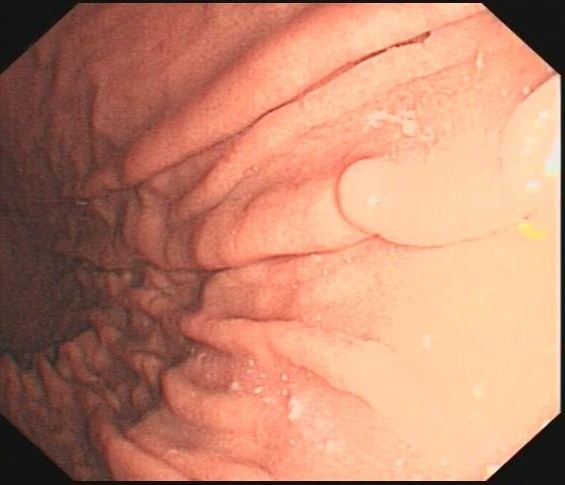Polyp: (336, 143, 401, 242)
